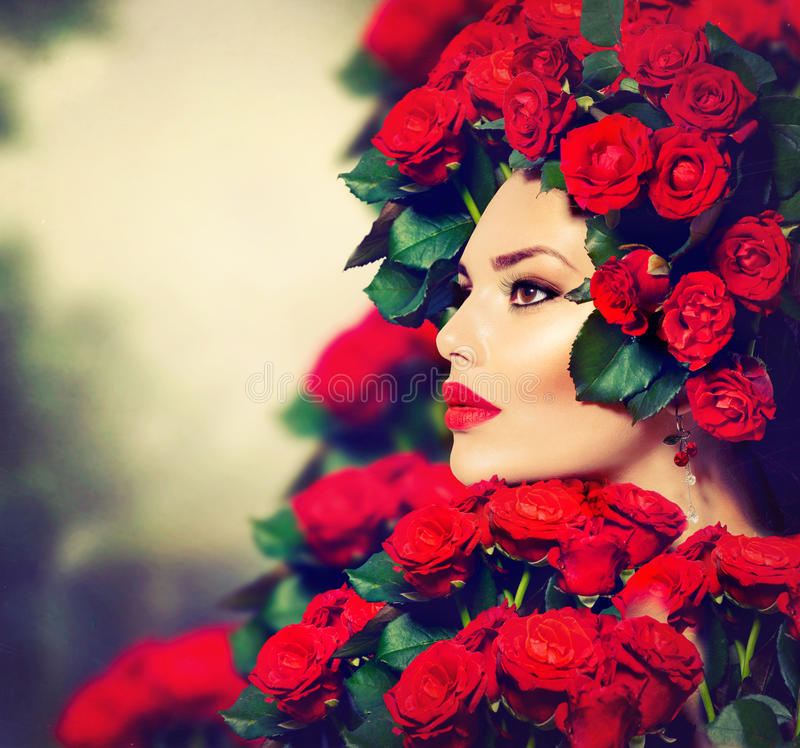RedRose: (373, 493, 524, 590), (379, 636, 497, 747), (370, 80, 471, 194), (251, 613, 350, 729), (556, 111, 661, 215), (652, 63, 780, 147), (710, 203, 800, 322), (637, 124, 733, 229), (589, 241, 676, 336), (661, 273, 739, 371)
